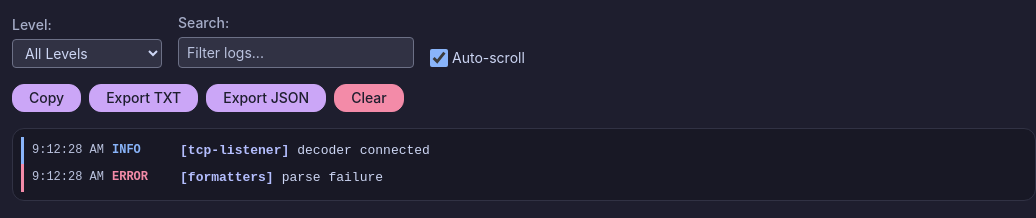
Test: LogsViewer › NIT-10: search filtering › filters by module name
Type "formatters" into the field labelled "Search:".
click(296, 52); type("formatters")  # box [178, 37, 414, 68]
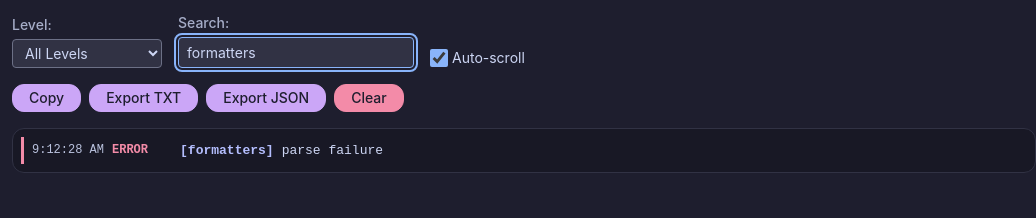
Check: the element with class "log-entry" shows "parse failure", box [282, 142, 383, 158]
Check: the number of elements with class "log-entry" is 1, box [21, 136, 1027, 164]
